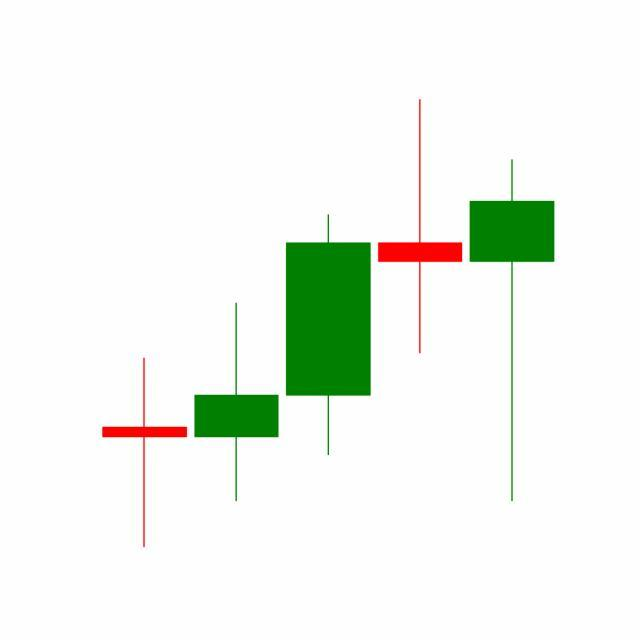Spinning Top: (374, 96, 468, 357)
